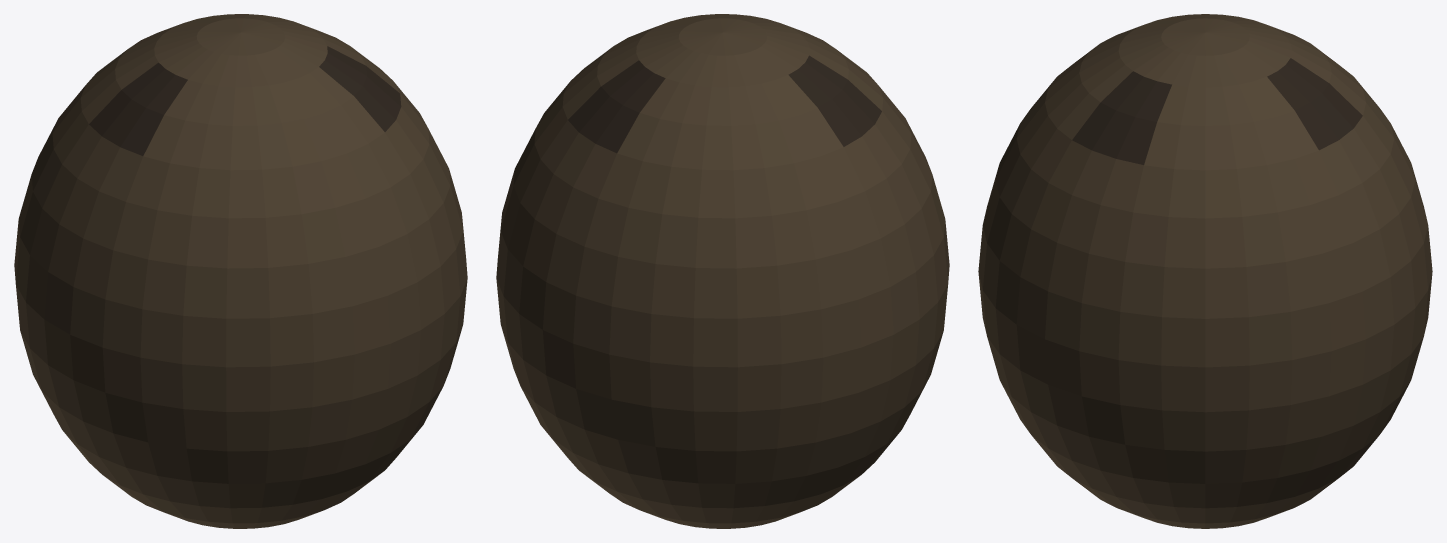
Rendered from coconut.fbx.
The picture shows the model from 3 angles, left to right: view 1: azimuth 30°, elevation 25°; view 2: azimuth 150°, elevation 25°; view 3: azimuth 270°, elevation 25°; orthographic projection.
Parts seen in each view (by area): view 1: Sphere; view 2: Sphere; view 3: Sphere.
Boxes of the visible parts, left/top/right/bottom form: Sphere: left=14, top=14, right=467, bottom=528; Sphere: left=496, top=14, right=949, bottom=528; Sphere: left=978, top=14, right=1432, bottom=528.
Size of the model in its own units: 200 by 232 by 200.
